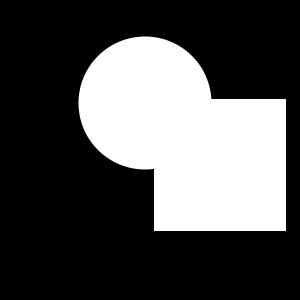circle: (154, 99, 286, 231)
rectangle: (78, 36, 212, 169)
